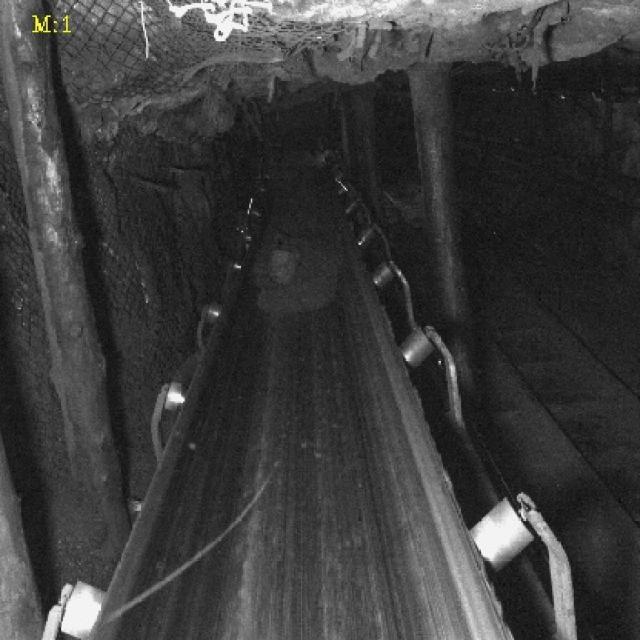bolt: (108, 464, 289, 634)
large_sized_coal: (268, 245, 298, 288)
